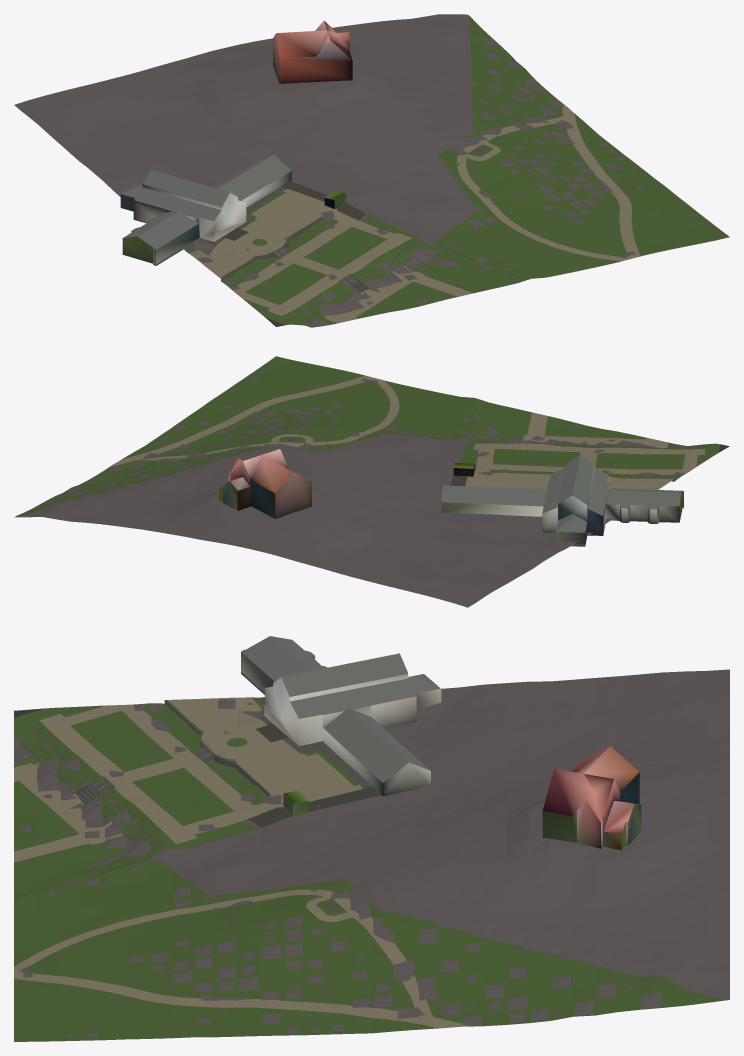
3 renders of one model, top to bottom at view 1: azimuth 30°, elevation 25°; view 2: azimuth 150°, elevation 25°; view 3: azimuth 270°, elevation 25°, orthographic. The views are drawn at different scales.
Visible parts, largest first — view 1: c_m09_m15; view 2: c_m09_m15; view 3: c_m09_m15.
Part boxes in pixels (x1=…): c_m09_m15: x1=14, y1=14, x2=729, y2=327; c_m09_m15: x1=14, y1=356, x2=729, y2=607; c_m09_m15: x1=14, y1=636, x2=729, y2=1041.
Size of the model in its own units: 142 by 27.38 by 128.
